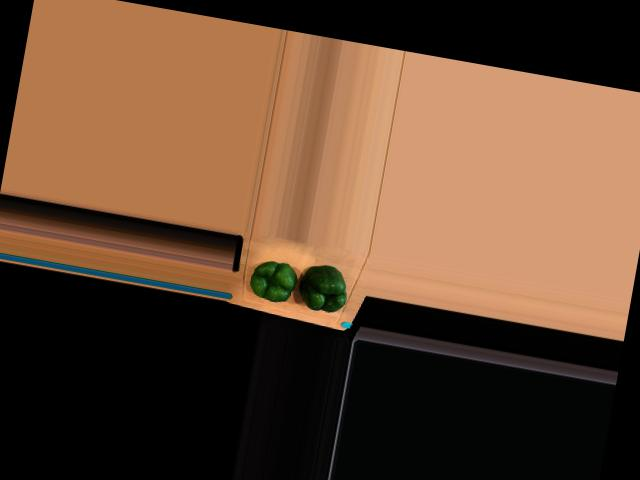bell_pepper: (248, 252, 301, 306)
